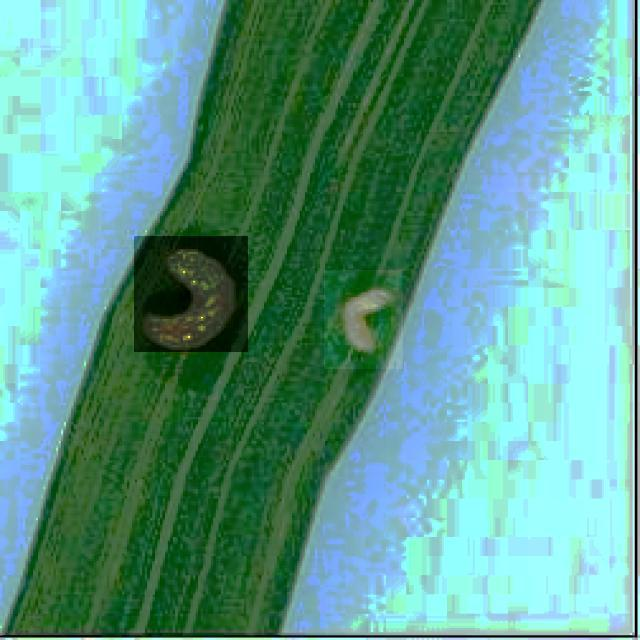whorl-maggot: (134, 236, 248, 352), (324, 270, 403, 369)
